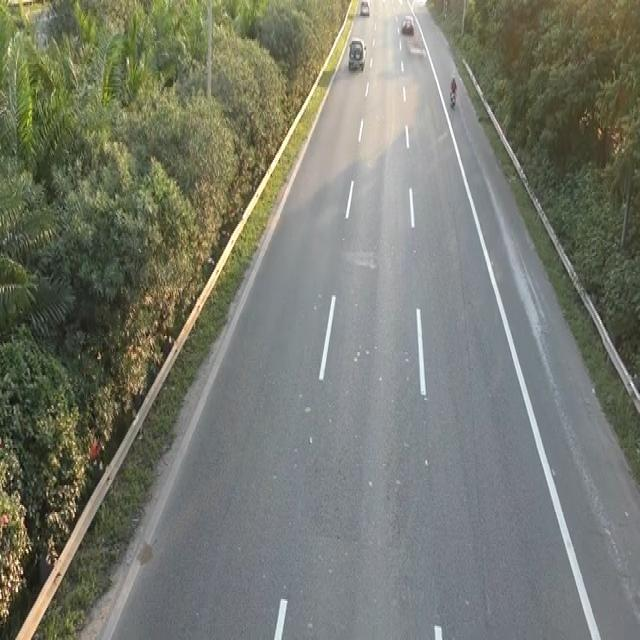bus: (400, 12, 414, 36), (359, 0, 370, 16)
car: (345, 34, 369, 76)
minibus: (448, 74, 458, 108), (448, 89, 457, 108)
